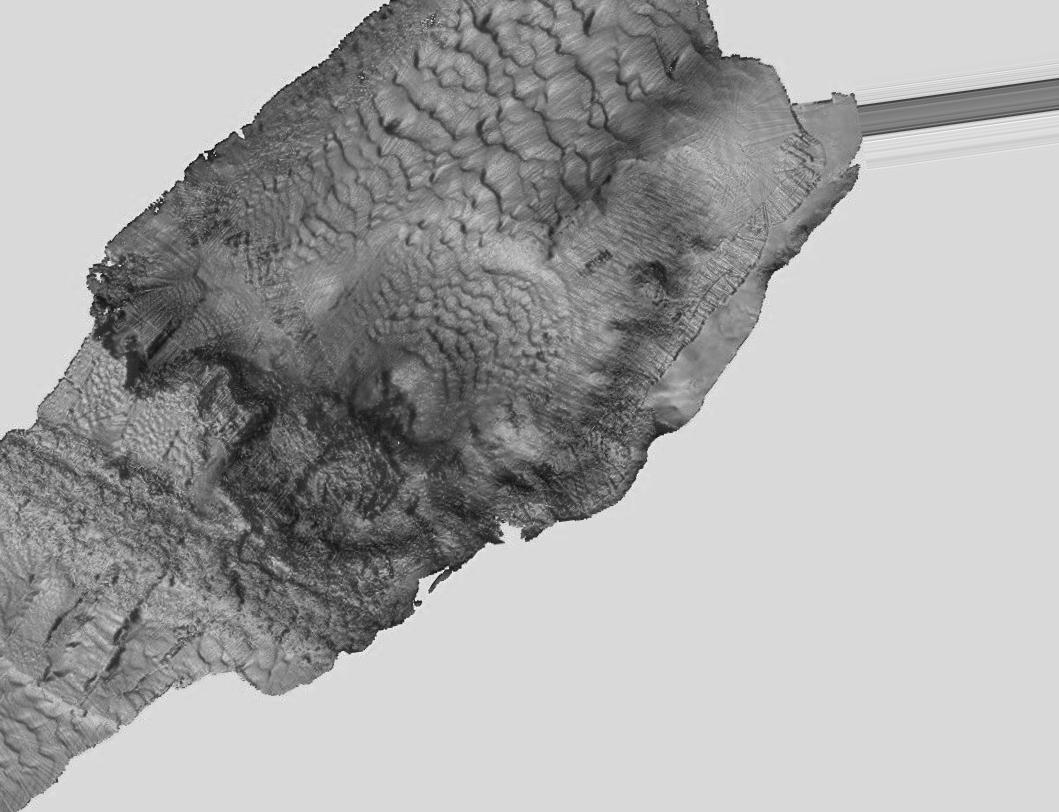Dune: (421, 9, 623, 190), (323, 112, 493, 265), (418, 277, 566, 369), (7, 707, 62, 764)
Scarp: (308, 480, 677, 638)
Scour pit: (331, 321, 456, 450)
Submerged dike: (160, 524, 393, 684), (10, 432, 183, 611)
